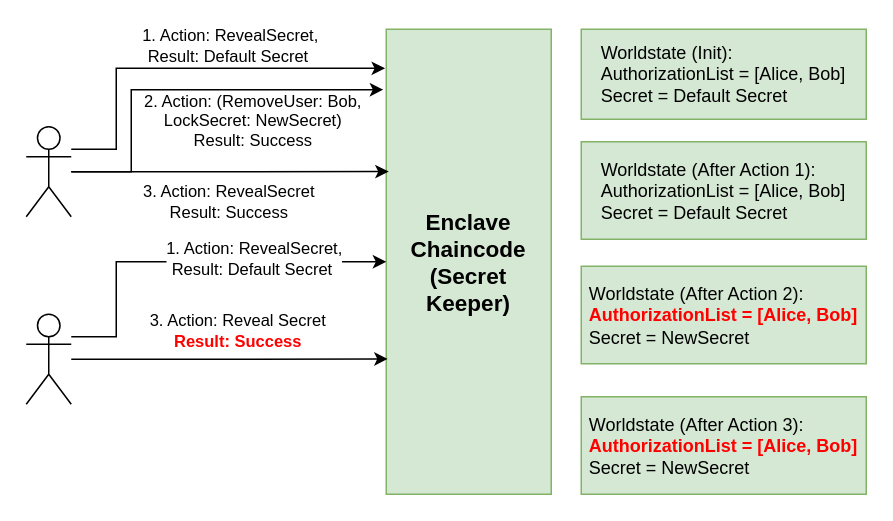
Some shapes in this 893 by 521 pixel diagram are drawn without their labels. The box of each missing label's shape, as (x1, y1, x2, y2) in pixels:
Alice: (25, 125, 71, 217)
Bob: (25, 313, 71, 404)
